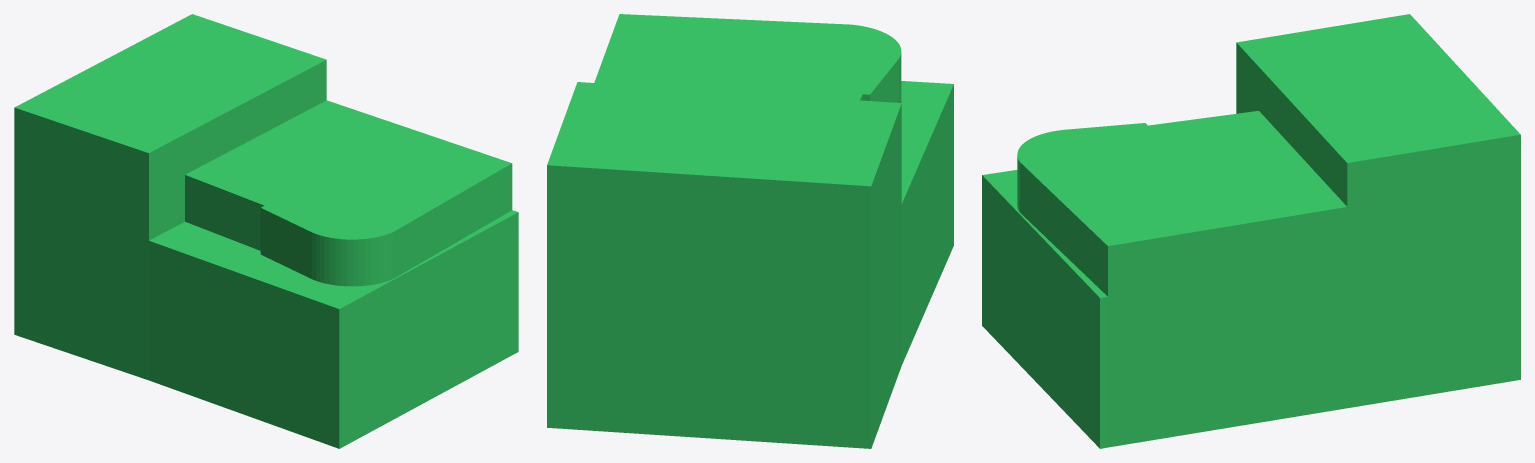
The model's file is building2.glb.
3 views of the same model, side by side, from view 1: azimuth 30°, elevation 25°; view 2: azimuth 150°, elevation 25°; view 3: azimuth 270°, elevation 25° (orthographic). The views are drawn at different scales.
Visible parts, largest first — view 1: building2; view 2: building2; view 3: building2.
Boxes of the visible parts, x1,y1,x2,y2 form: building2: [14, 14, 518, 448]; building2: [547, 14, 953, 448]; building2: [982, 14, 1520, 448].
Size of the model in its own units: 48.33 by 29.1 by 57.95.
